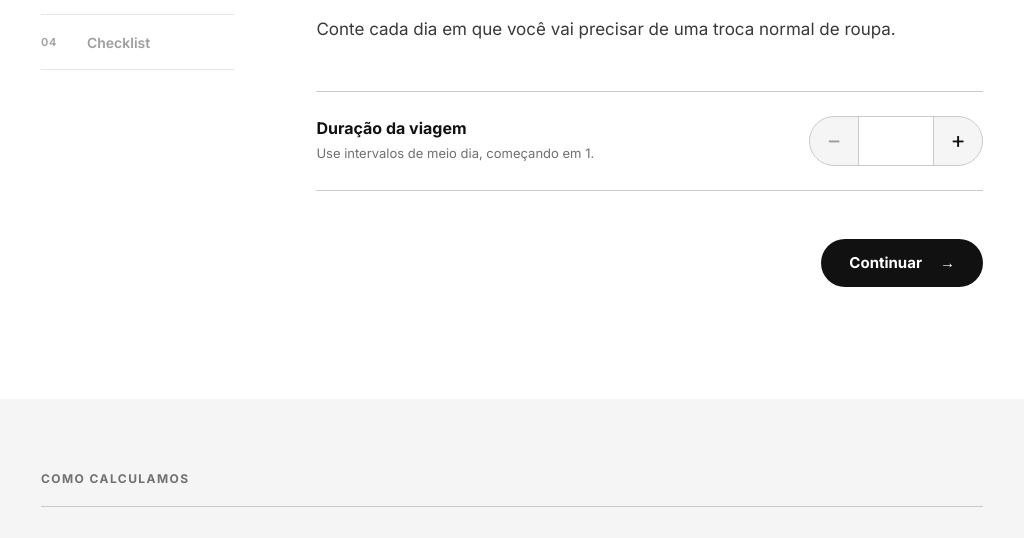
Test: App › bloqueia a primeira etapa sem uma duração válida
The width and height of the screenshot is (1024, 538).
(page scrolled)
Click the button "Continuar →" at (902, 262), box top-left (821, 238), bottom-right (983, 286)
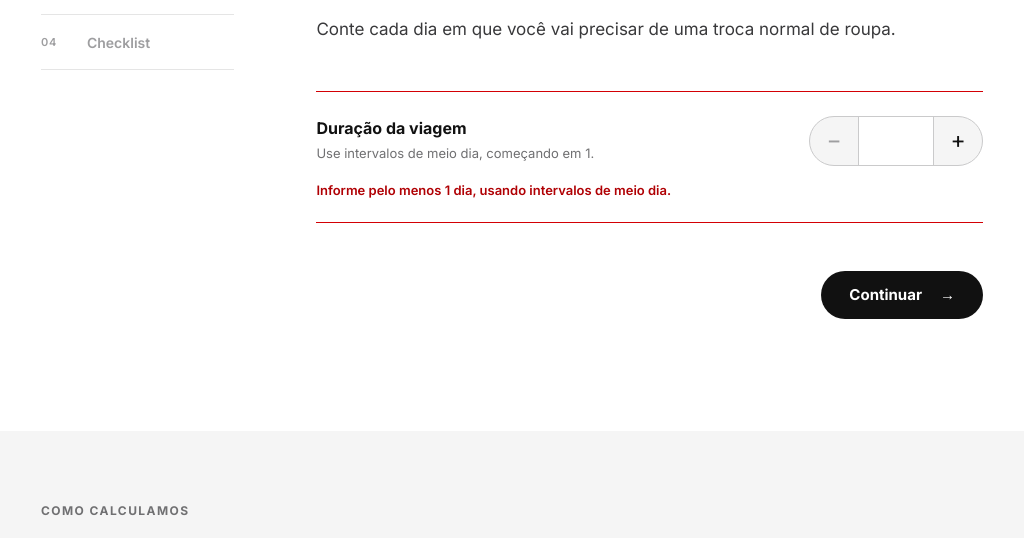
Expected: the number field labelled "Duração da viagem" is shown, top-left (858, 116), bottom-right (934, 164)
Now the message shows "Informe pelo menos 1 dia", box top-left (316, 182), bottom-right (671, 198)
